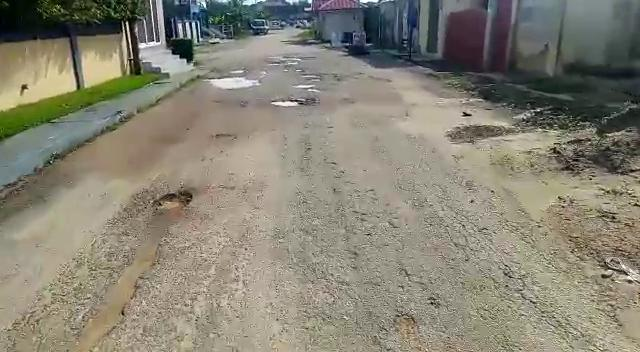pothole: (205, 74, 262, 91), (156, 190, 192, 215), (267, 98, 308, 109), (214, 133, 241, 142)
